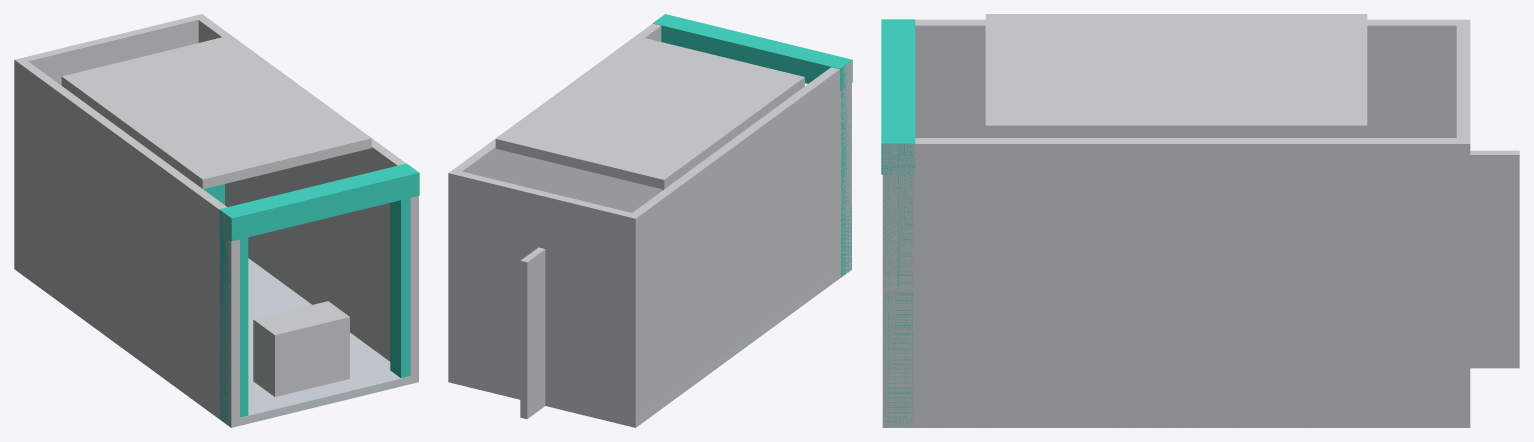
3 views of the same model, side by side, from view 1: azimuth 30°, elevation 25°; view 2: azimuth 150°, elevation 25°; view 3: azimuth 270°, elevation 25° (orthographic). The views are drawn at different scales.
Parts seen in each view (by area): view 1: Exhibition Booth Concept; view 2: Exhibition Booth Concept; view 3: Exhibition Booth Concept.
Part boxes in pixels (<box>): Exhibition Booth Concept: <box>14,14,419,427</box>; Exhibition Booth Concept: <box>448,14,852,427</box>; Exhibition Booth Concept: <box>881,14,1519,427</box>.
Bounding box in the file's own units: 3 × 3.34 × 6.52.
